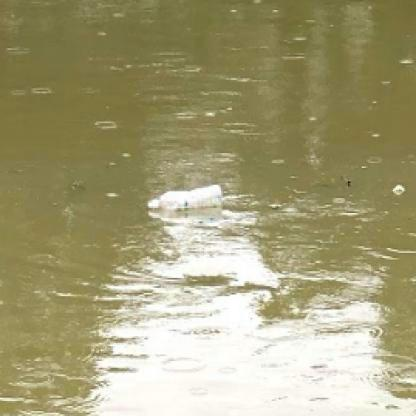Plastic: (144, 182, 225, 215)
